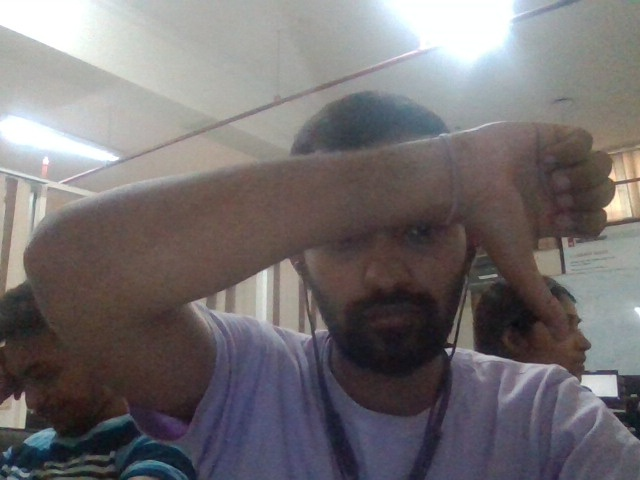No: (459, 120, 616, 338)
